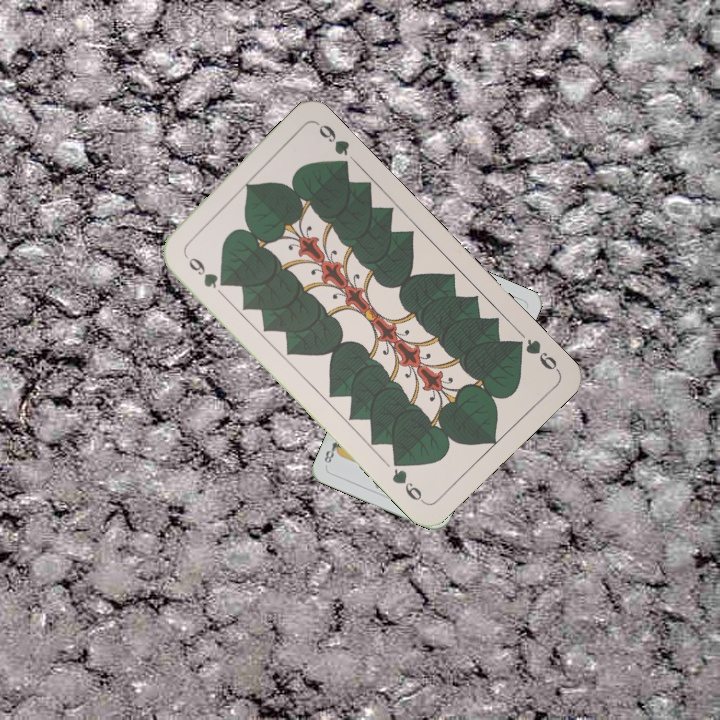G9: (508, 334, 561, 374), (184, 253, 230, 292)
